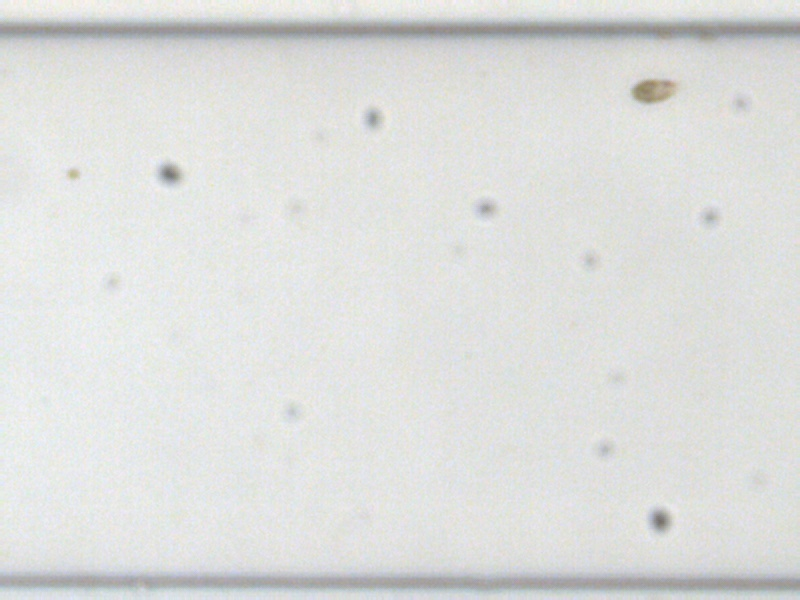Chlorella: (65, 165, 82, 181)
Dunaliella salina: (627, 76, 679, 104)
